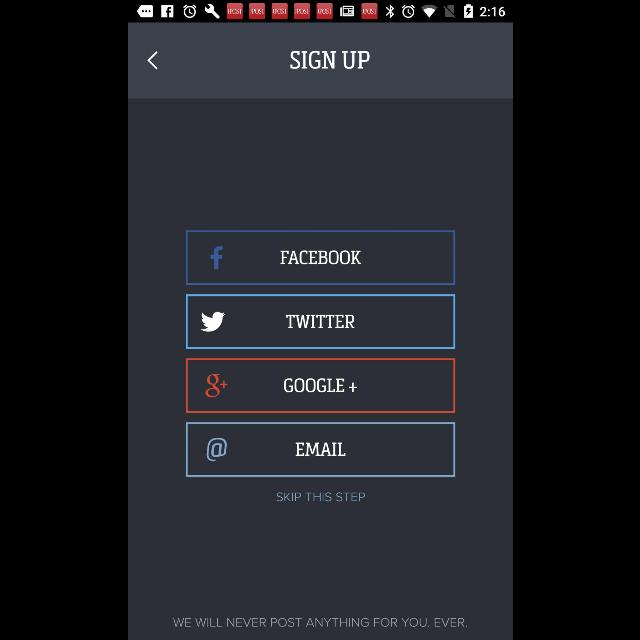icon: (146, 51, 158, 70)
text: (173, 618, 467, 628), (289, 50, 369, 70), (276, 492, 364, 502)
textbutton: (185, 358, 455, 414), (185, 422, 455, 478), (185, 294, 455, 350), (185, 230, 455, 286)
toolbar: (128, 23, 512, 99)
uppertaskbar: (128, 1, 512, 23)
